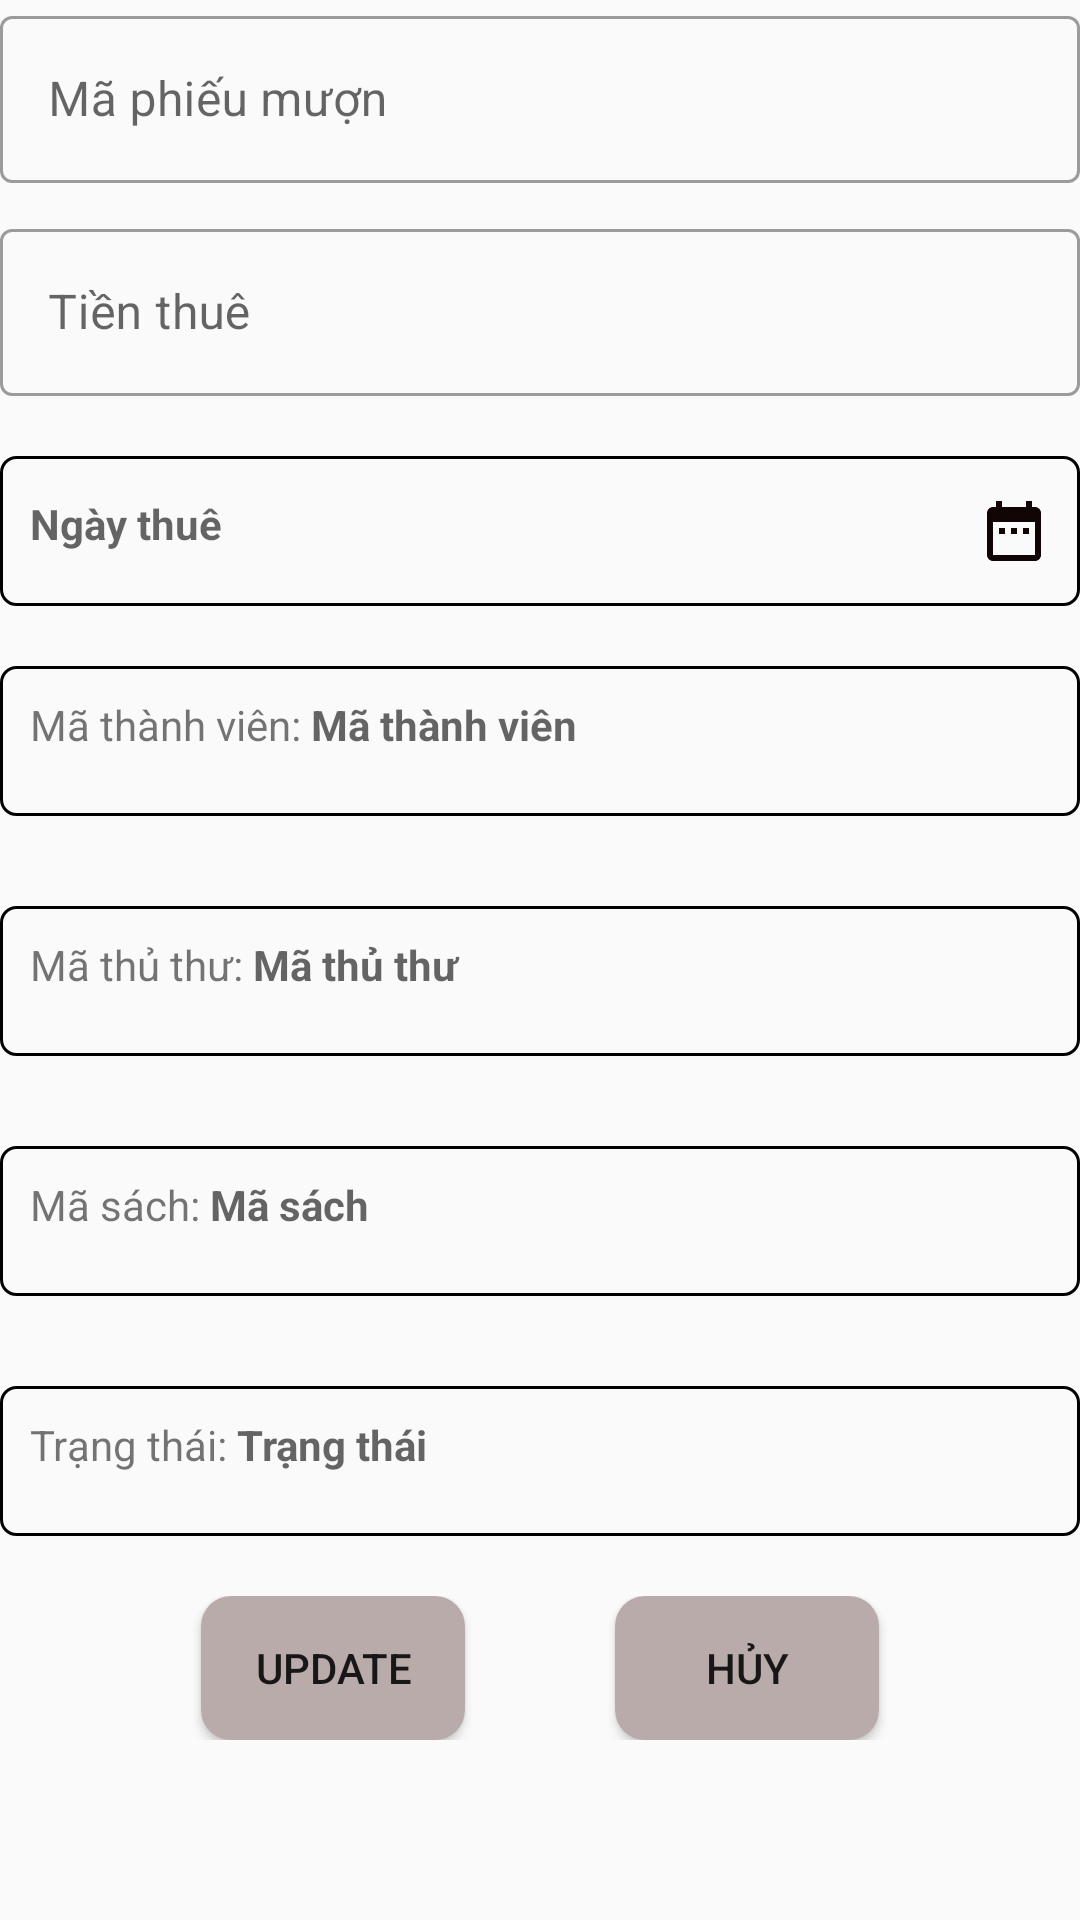

Icon bounding boxes for this 1080 x 1920 phone screenshot, format box=[x1, y1, x2, y2]:
date range: box=[987, 501, 1041, 561]
